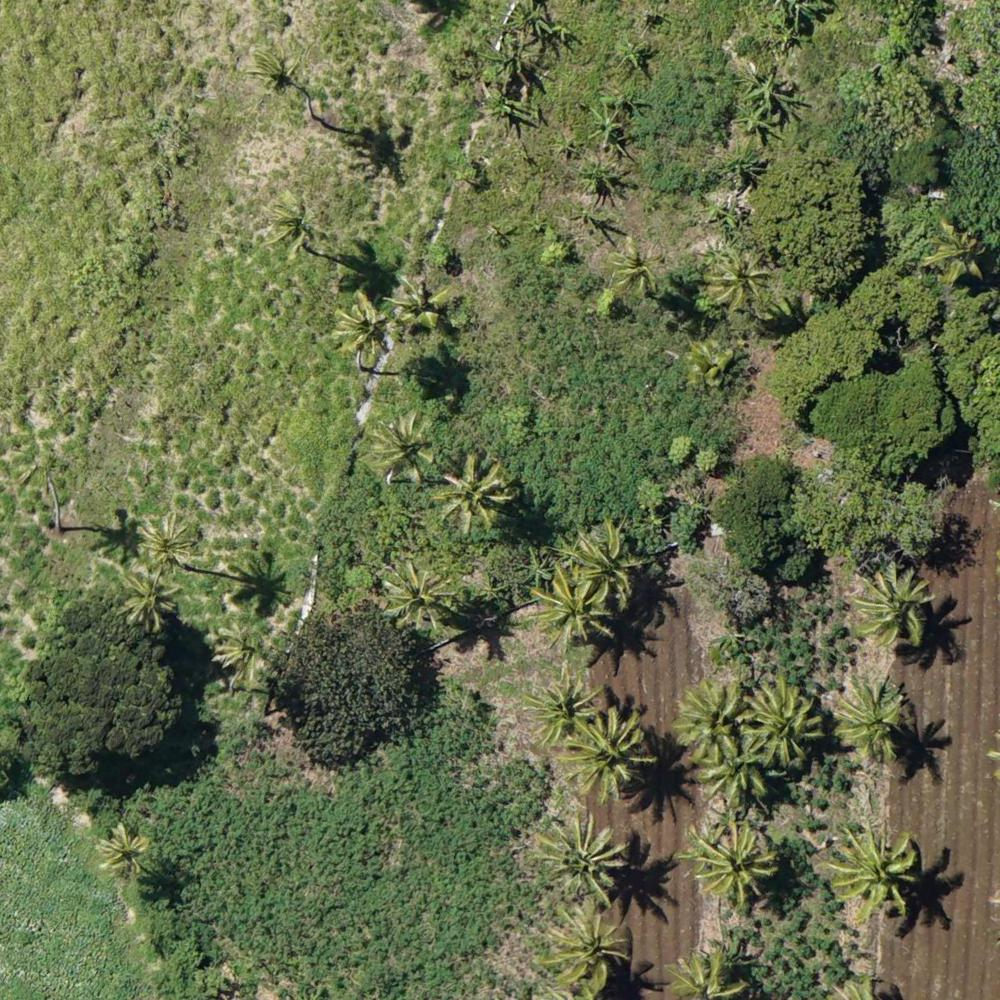Palm: (832, 824, 917, 916), (569, 706, 654, 792), (738, 681, 823, 767), (541, 901, 625, 988), (536, 816, 621, 901), (688, 818, 773, 902), (849, 566, 933, 647), (831, 678, 912, 760), (535, 566, 617, 642), (676, 683, 749, 764), (435, 455, 513, 527), (571, 525, 643, 602), (530, 671, 603, 745), (698, 740, 773, 809), (386, 561, 456, 631), (370, 411, 436, 479), (702, 244, 772, 307), (925, 218, 988, 285), (259, 193, 317, 257), (334, 295, 392, 355), (134, 514, 197, 569), (119, 569, 176, 627), (609, 233, 668, 289), (95, 821, 150, 875), (213, 621, 269, 674), (251, 45, 303, 93)
